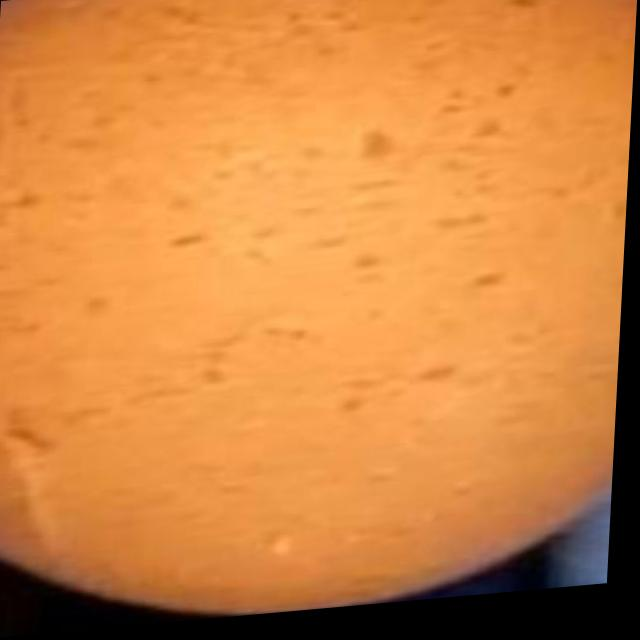unfresh: (0, 0, 640, 614)
